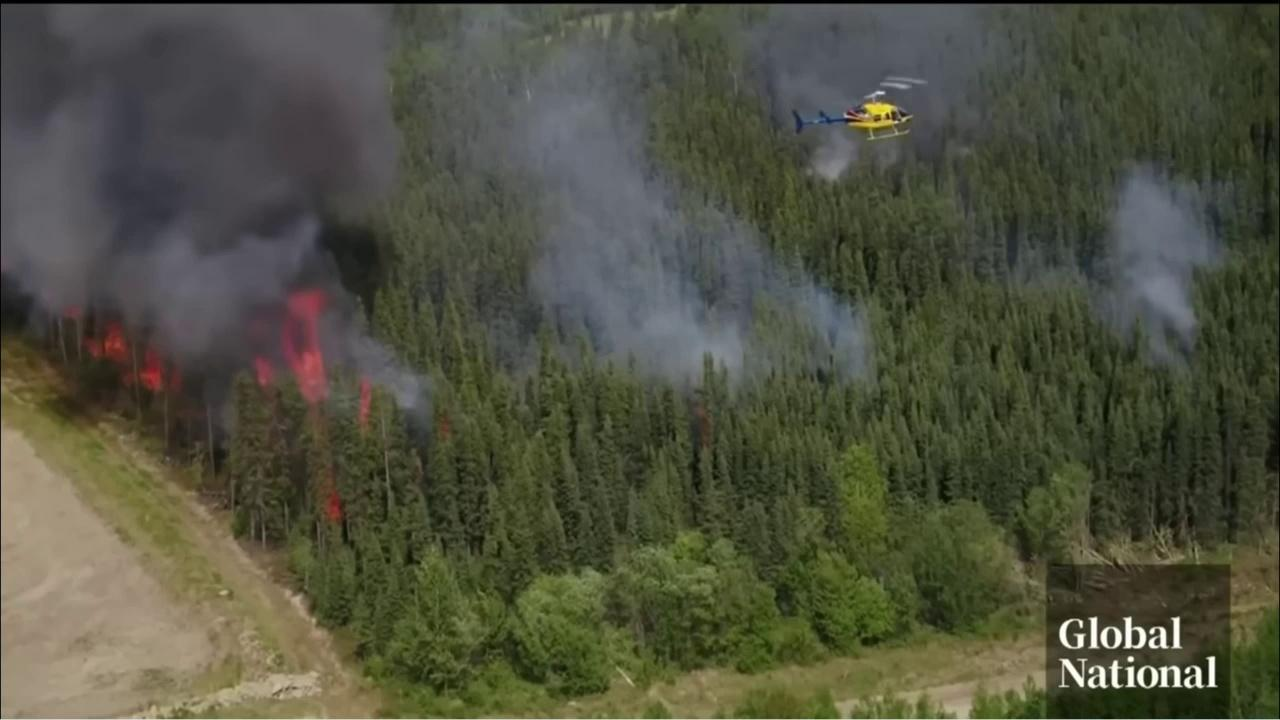fire: (45, 281, 187, 396), (282, 279, 335, 409), (354, 372, 379, 436), (249, 340, 277, 391), (320, 486, 356, 525)
smoke: (2, 4, 438, 458), (439, 4, 877, 397), (732, 3, 1040, 188), (1039, 153, 1243, 362)
